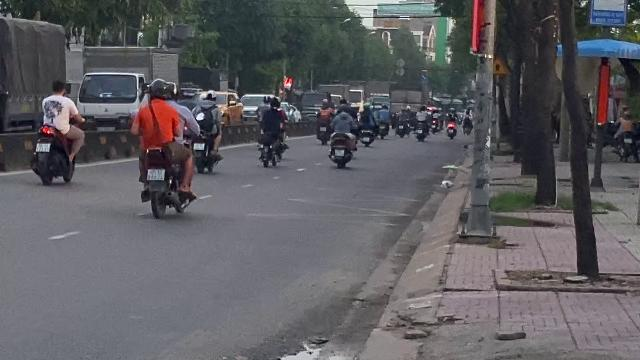helmet: (146, 78, 170, 102)
licenseplate: (148, 168, 164, 180), (36, 144, 50, 152)
motorcyclist: (130, 77, 198, 219), (32, 78, 84, 185)
nohelmet: (50, 78, 66, 96)
